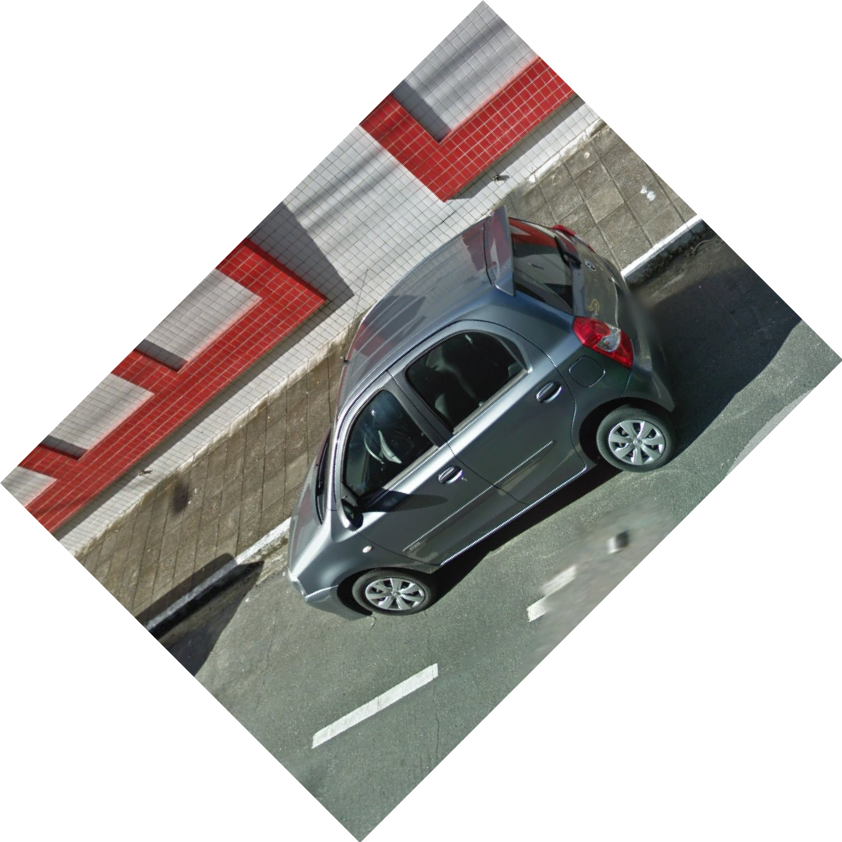car: (285, 205, 681, 625)
